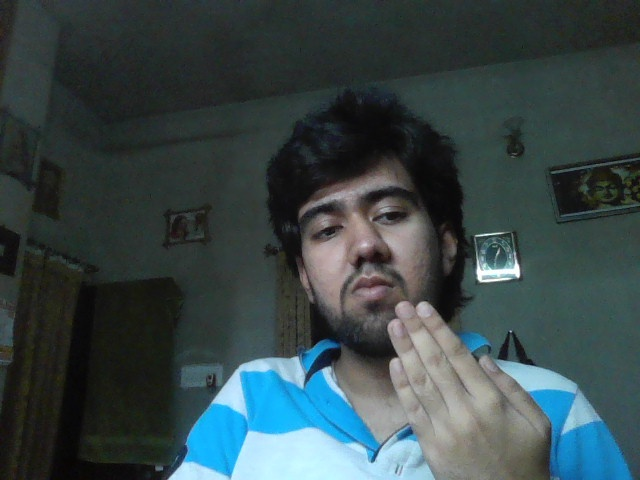ThankYou: (387, 300, 551, 480)
